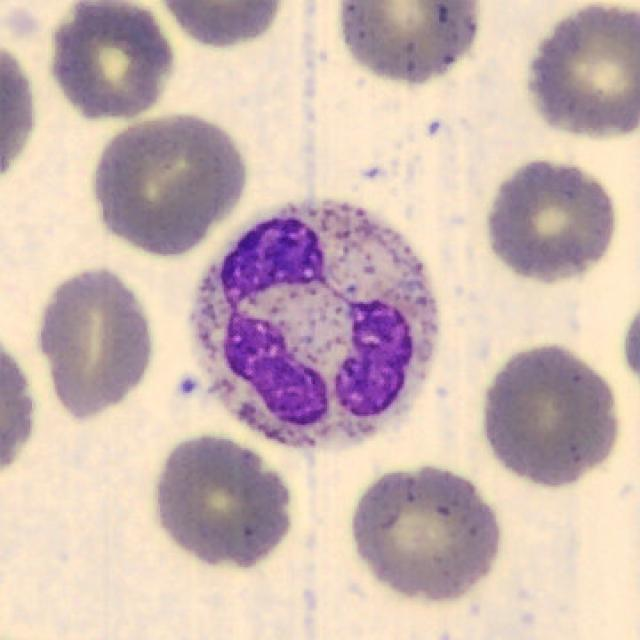Neutrofilo segmentado: (188, 201, 441, 448)
